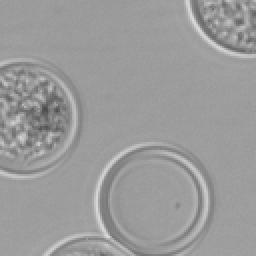picoshell: (94, 142, 212, 254), (0, 60, 76, 176), (44, 232, 134, 254)
